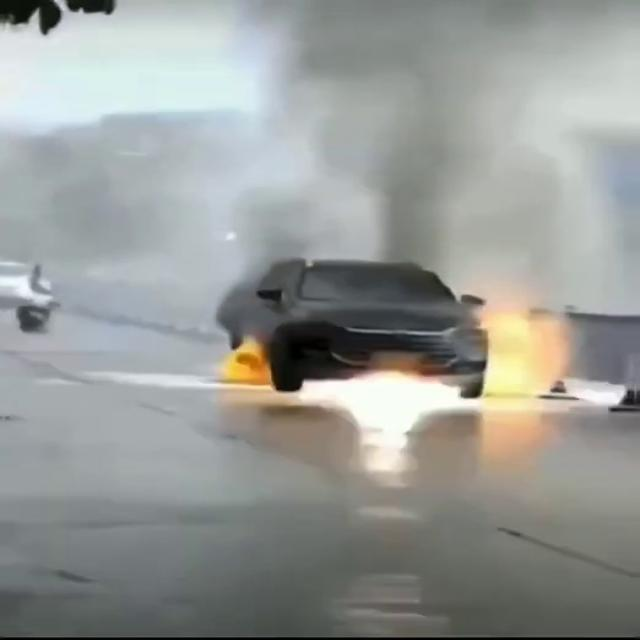Fire: (471, 303, 566, 414)
Smoke: (160, 0, 640, 303)
